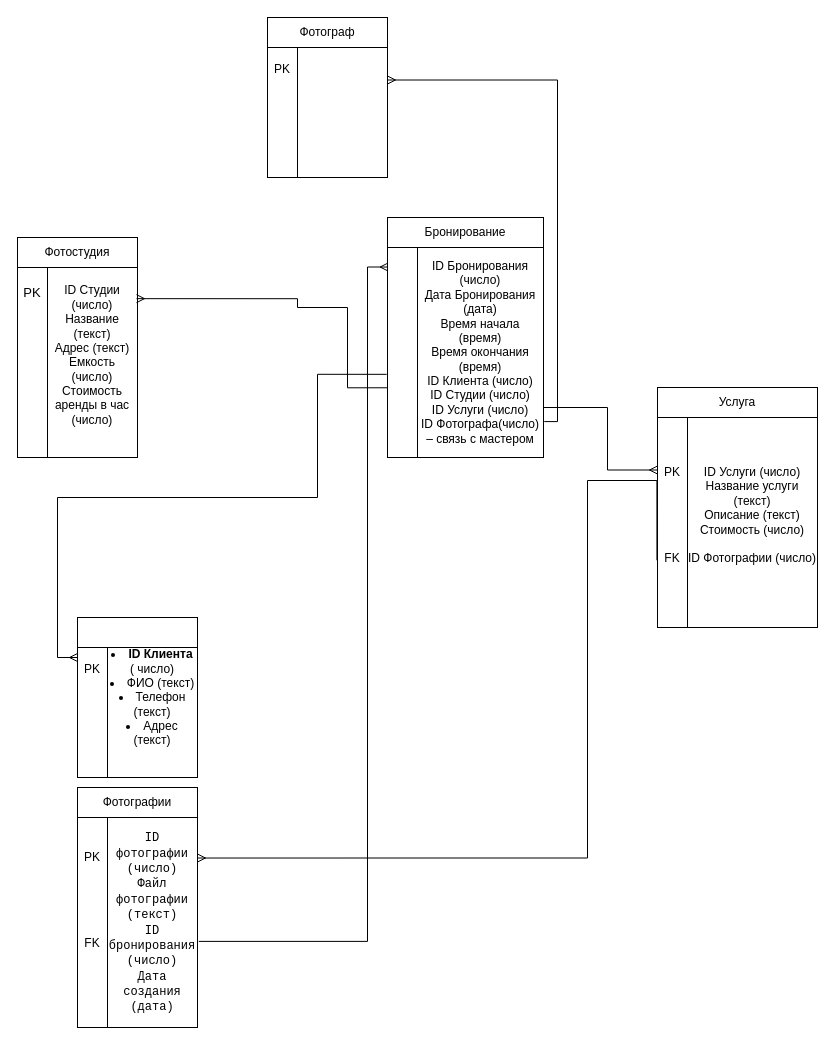
This 835x1045 diagram has some shape labels left out. Each missing label, with the centre of its shape:
"ID Фотографа (число) ФИО (текст) Специализация (текст) Контакты (текст)" belongs at (x=342, y=112).
"PK FK FK FK FK" belongs at (x=402, y=352).
"Клиент" belongs at (x=137, y=632).
